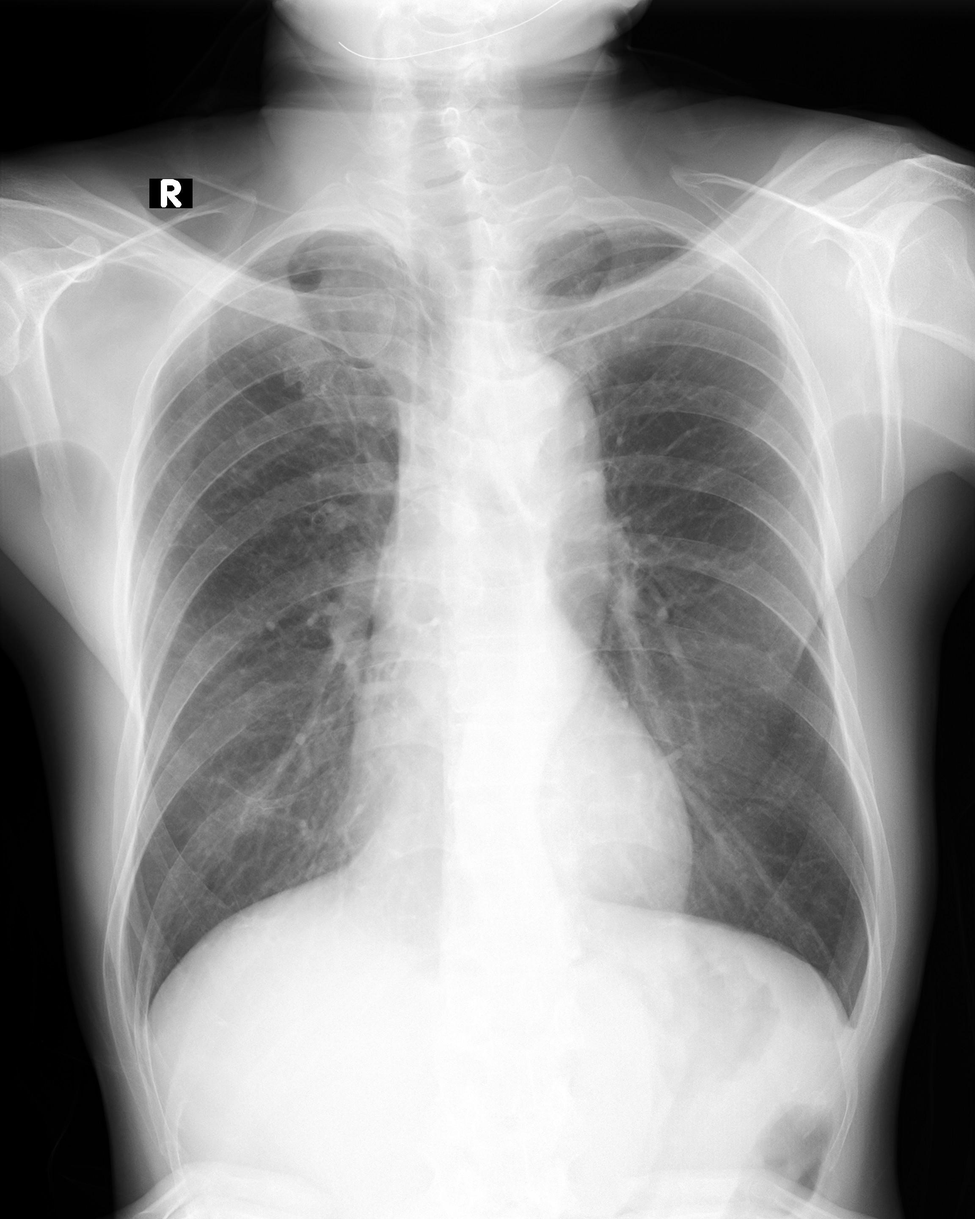Aortic enlargement: (484, 359, 606, 522)
